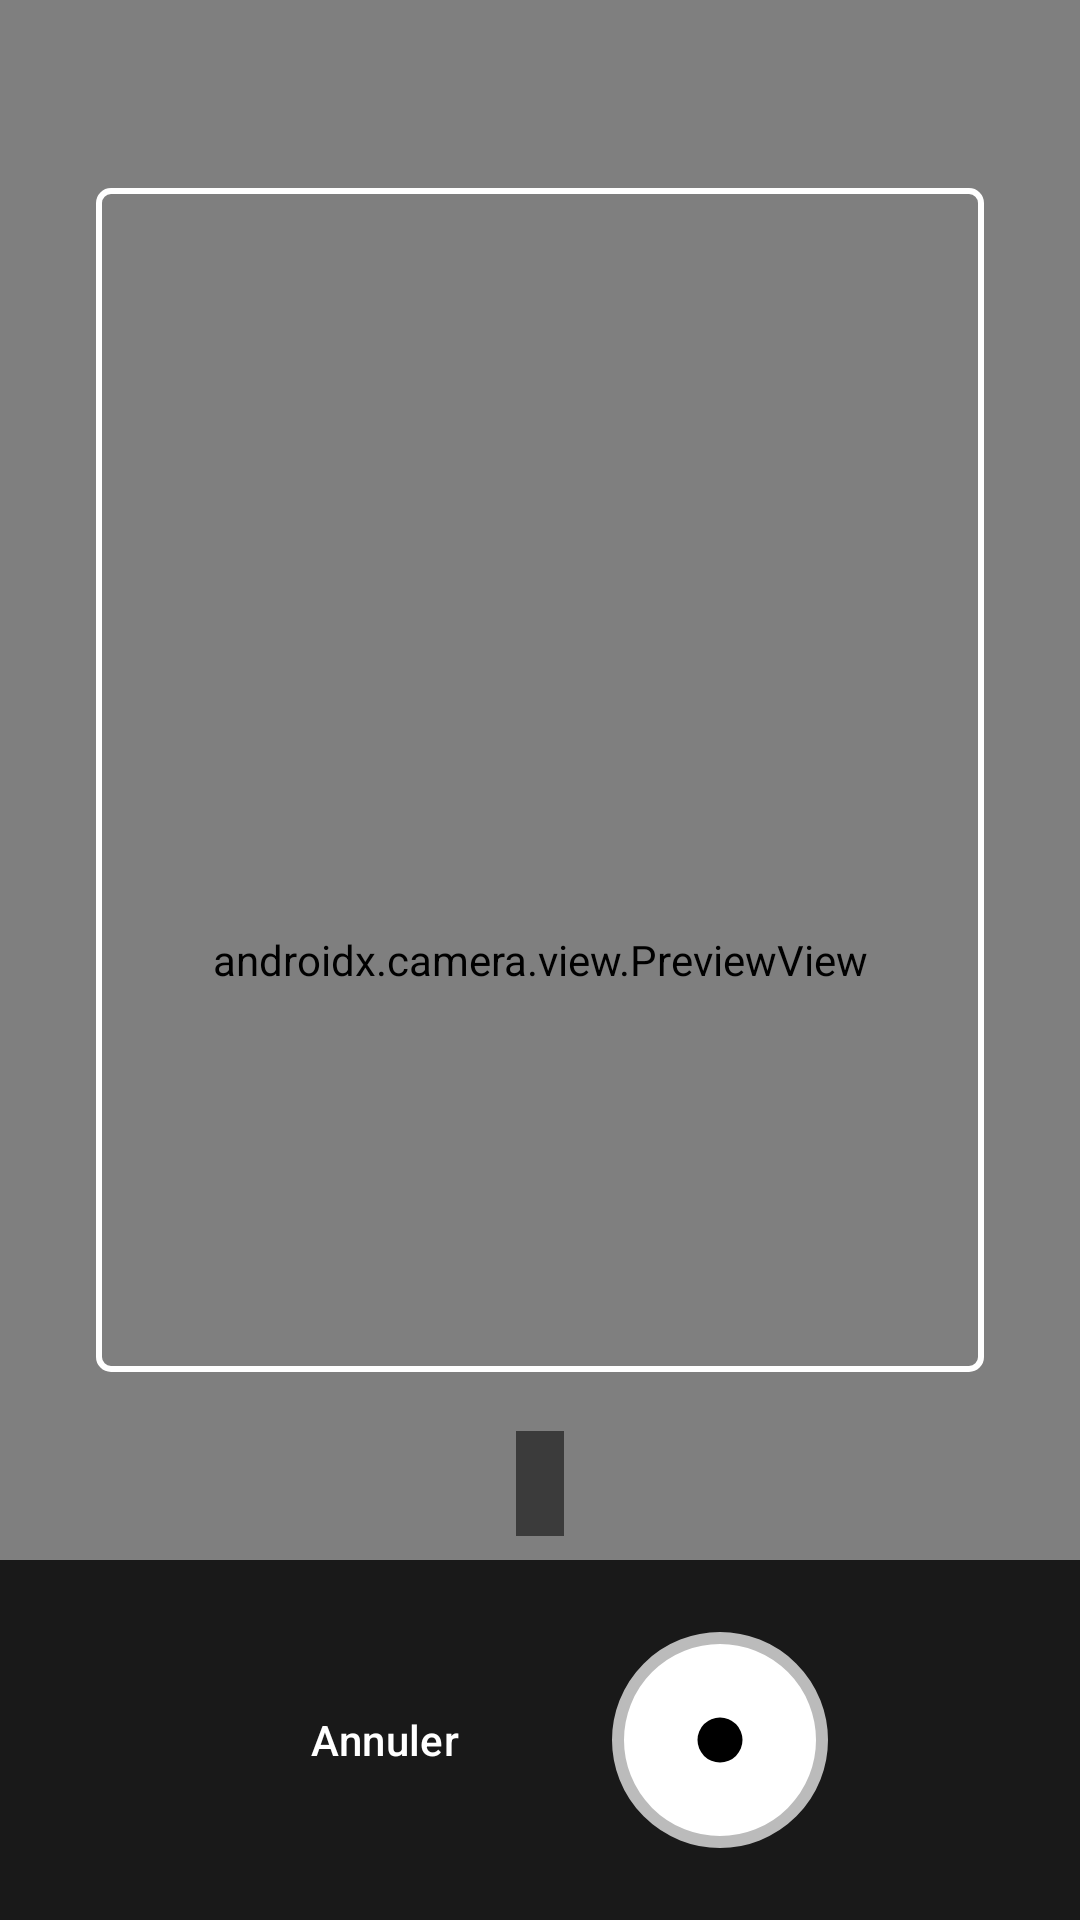

Screen size 1080 x 1920. Icon name, then its box in pixels as (x1, y1, x2, y2):
Capturer: (612, 1632, 828, 1848)
